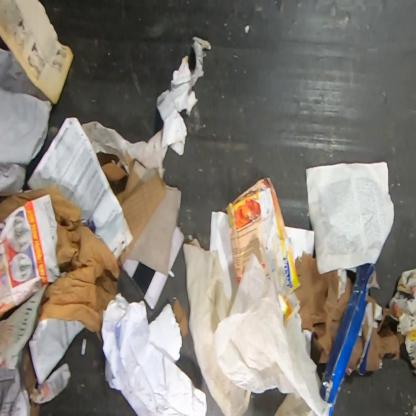cardboard: (226, 177, 302, 323), (319, 263, 375, 415), (101, 152, 166, 268), (391, 266, 415, 374)
